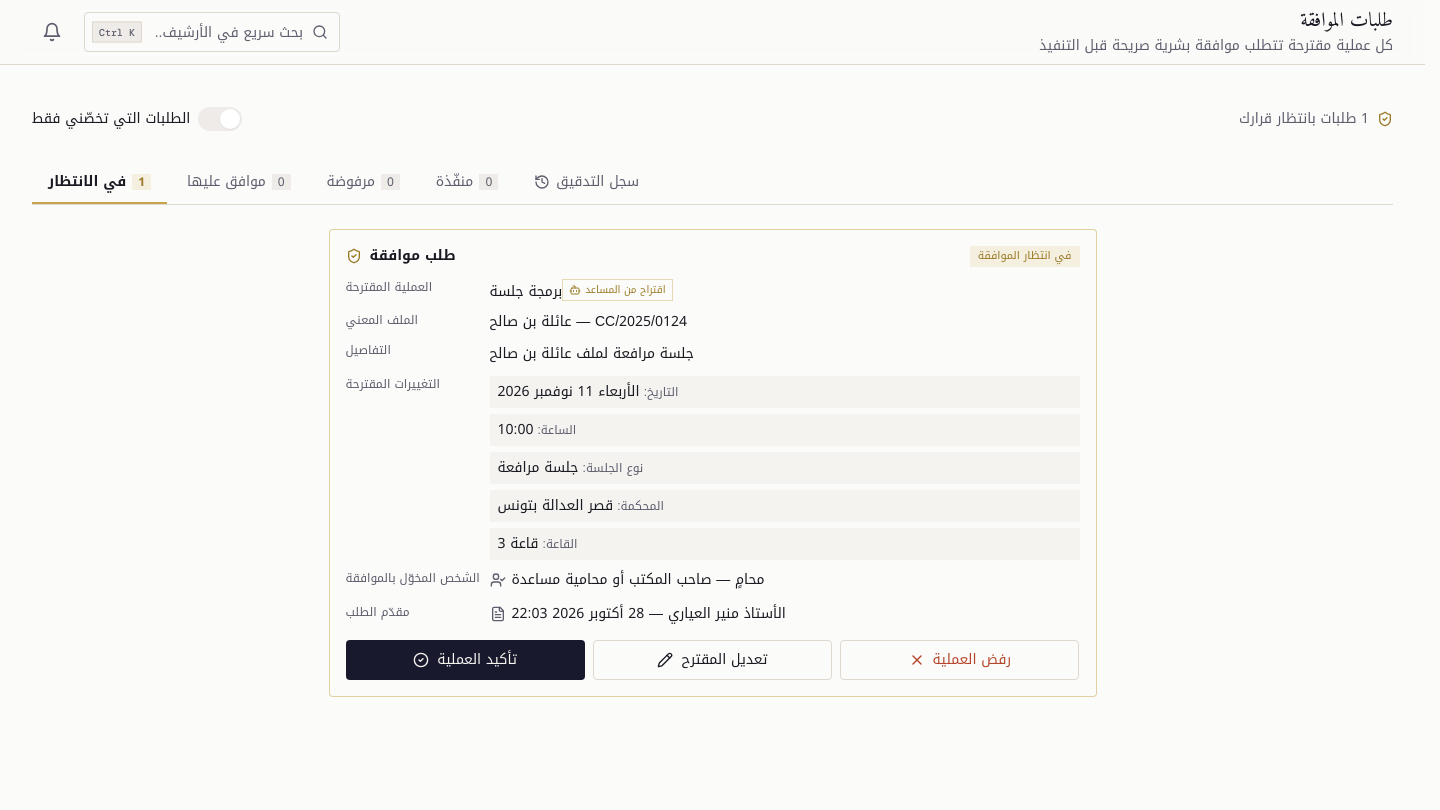
Test: «طلبات الموافقة» page › shows an intact audit chain
The width and height of the screenshot is (1440, 810).
Click the tab "سجل التدقيق".
click(587, 182)  # box [518,162,655,204]
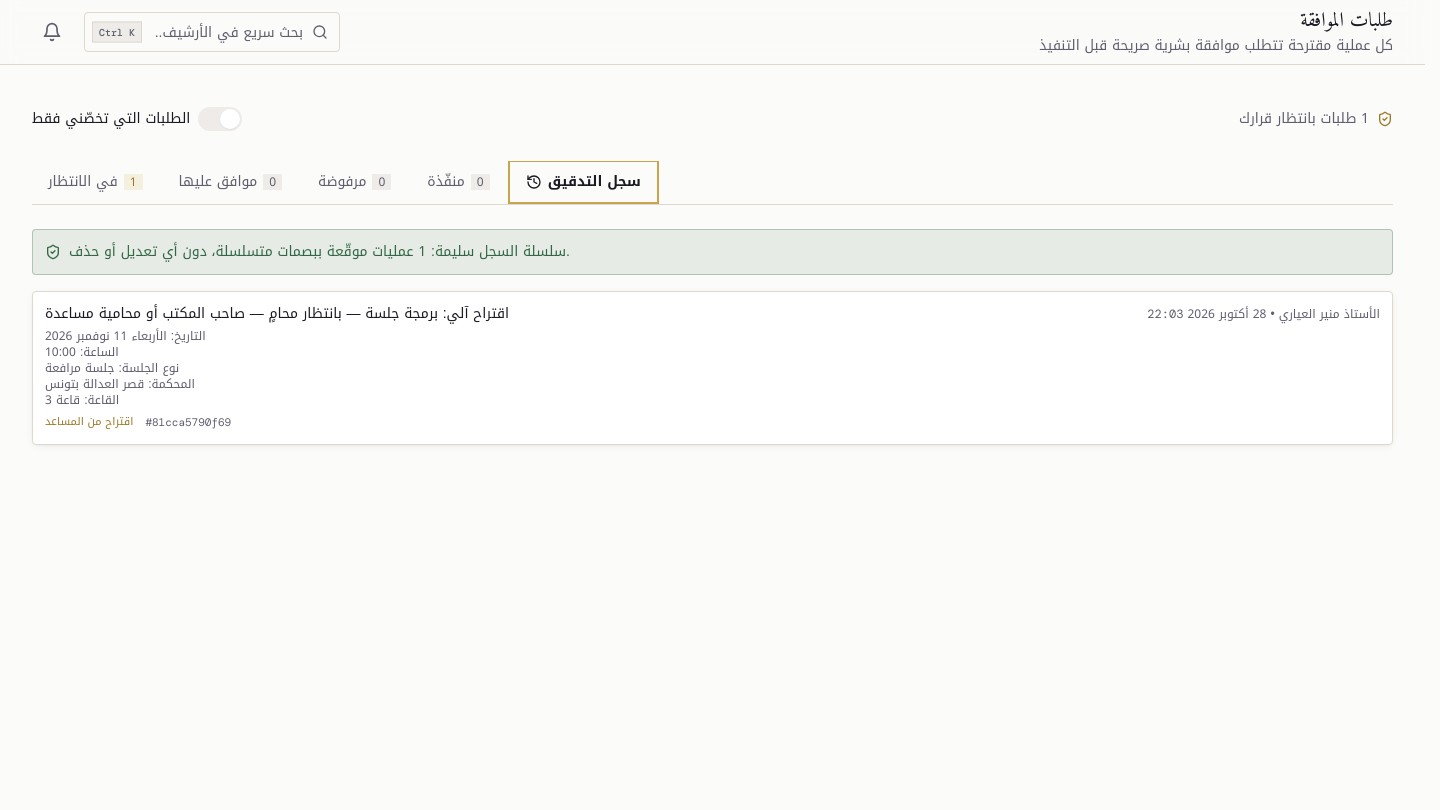
Expected: the text "سلسلة السجل سليمة: 1 عمليات موقّعة ببصمات متسلسلة، دون أي تعديل أو حذف." is shown, [32,229,1393,275]
